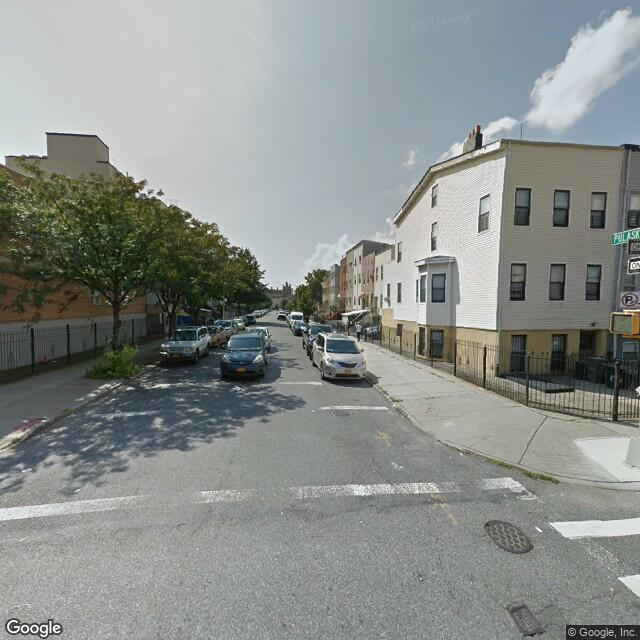litter: (534, 524, 543, 535), (22, 466, 31, 473), (457, 451, 465, 457), (392, 403, 397, 408)
